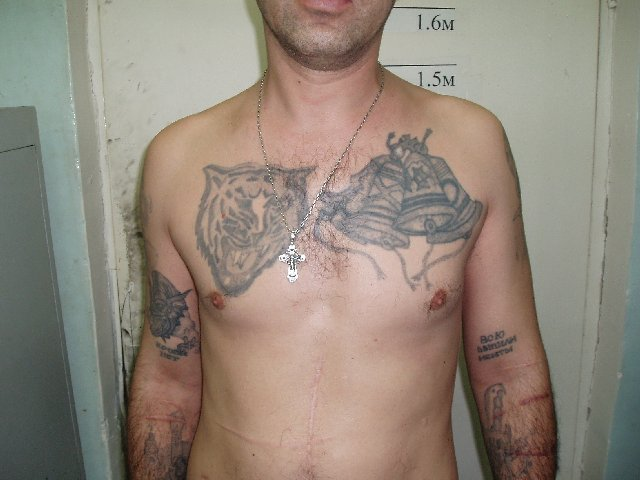tatu3_bukva: (474, 330, 522, 359)
tatu5_tigr: (193, 162, 316, 296)
